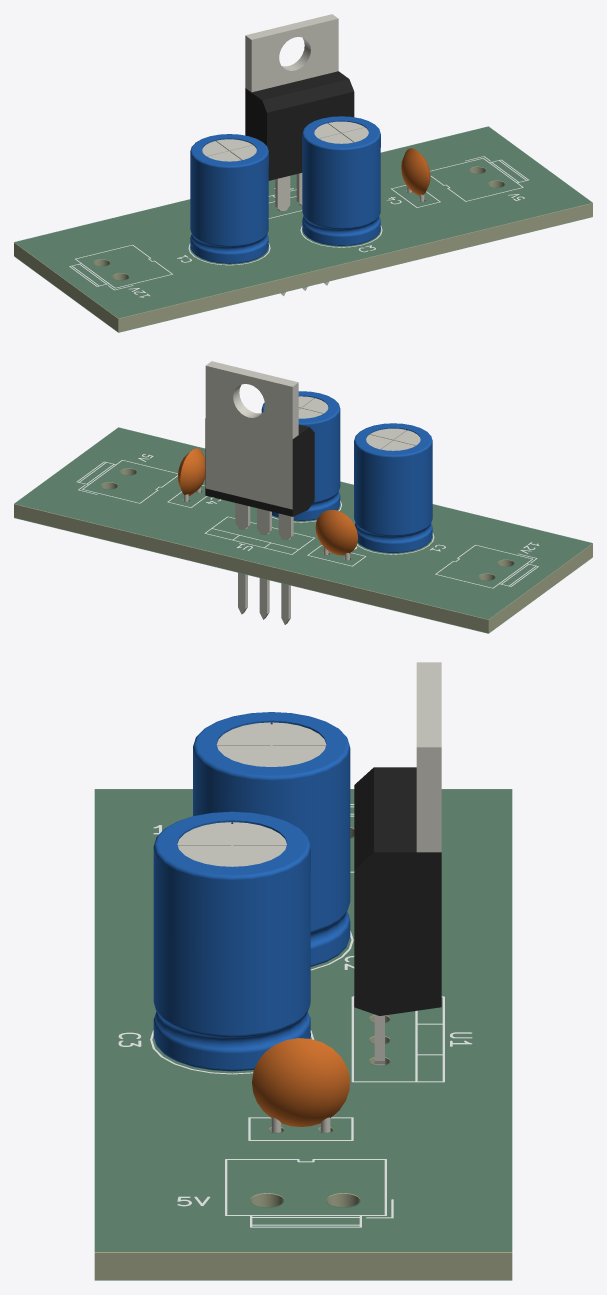
3 views of the same model, one above another, from view 1: azimuth 30°, elevation 25°; view 2: azimuth 150°, elevation 25°; view 3: azimuth 270°, elevation 25° (orthographic). The views are drawn at different scales.
Visible parts, largest first — view 1: =>[0:1:1:11], =>[0:1:1:9], =>[0:1:1:3] (×2), =>[0:1:1:7], =>[0:1:1:8], =>[0:1:1:5], =>[0:1:1:10]; view 2: =>[0:1:1:11], =>[0:1:1:9], =>[0:1:1:7], =>[0:1:1:3] (×2), =>[0:1:1:5] (×2), =>[0:1:1:8], =>[0:1:1:10]; view 3: =>[0:1:1:11], =>[0:1:1:9], =>[0:1:1:3] (×2), =>[0:1:1:7], =>[0:1:1:5], =>[0:1:1:8].
Part boxes in pixels (left/top/right/bottom): =>[0:1:1:11]: left=14, top=127, right=592, bottom=332; =>[0:1:1:9]: left=14, top=126, right=592, bottom=318; =>[0:1:1:3] (×2): left=190, top=116, right=380, bottom=263; =>[0:1:1:7]: left=245, top=14, right=354, bottom=295; =>[0:1:1:8]: left=69, top=156, right=528, bottom=297; =>[0:1:1:5]: left=401, top=148, right=430, bottom=201; =>[0:1:1:10]: left=14, top=217, right=592, bottom=332; =>[0:1:1:11]: left=14, top=428, right=592, bottom=633; =>[0:1:1:9]: left=14, top=427, right=592, bottom=619; =>[0:1:1:7]: left=205, top=361, right=314, bottom=624; =>[0:1:1:3] (×2): left=261, top=391, right=432, bottom=553; =>[0:1:1:5] (×2): left=178, top=448, right=357, bottom=560; =>[0:1:1:8]: left=76, top=454, right=539, bottom=588; =>[0:1:1:10]: left=14, top=518, right=592, bottom=633; =>[0:1:1:11]: left=94, top=790, right=512, bottom=1279; =>[0:1:1:9]: left=94, top=789, right=512, bottom=1251; =>[0:1:1:3] (×2): left=153, top=712, right=350, bottom=1071; =>[0:1:1:7]: left=354, top=662, right=441, bottom=1065; =>[0:1:1:5]: left=252, top=1038, right=349, bottom=1132; =>[0:1:1:8]: left=118, top=804, right=472, bottom=1227.
Bounding box in the file's own units: 0.0558 × 0.0285 × 0.0212.
